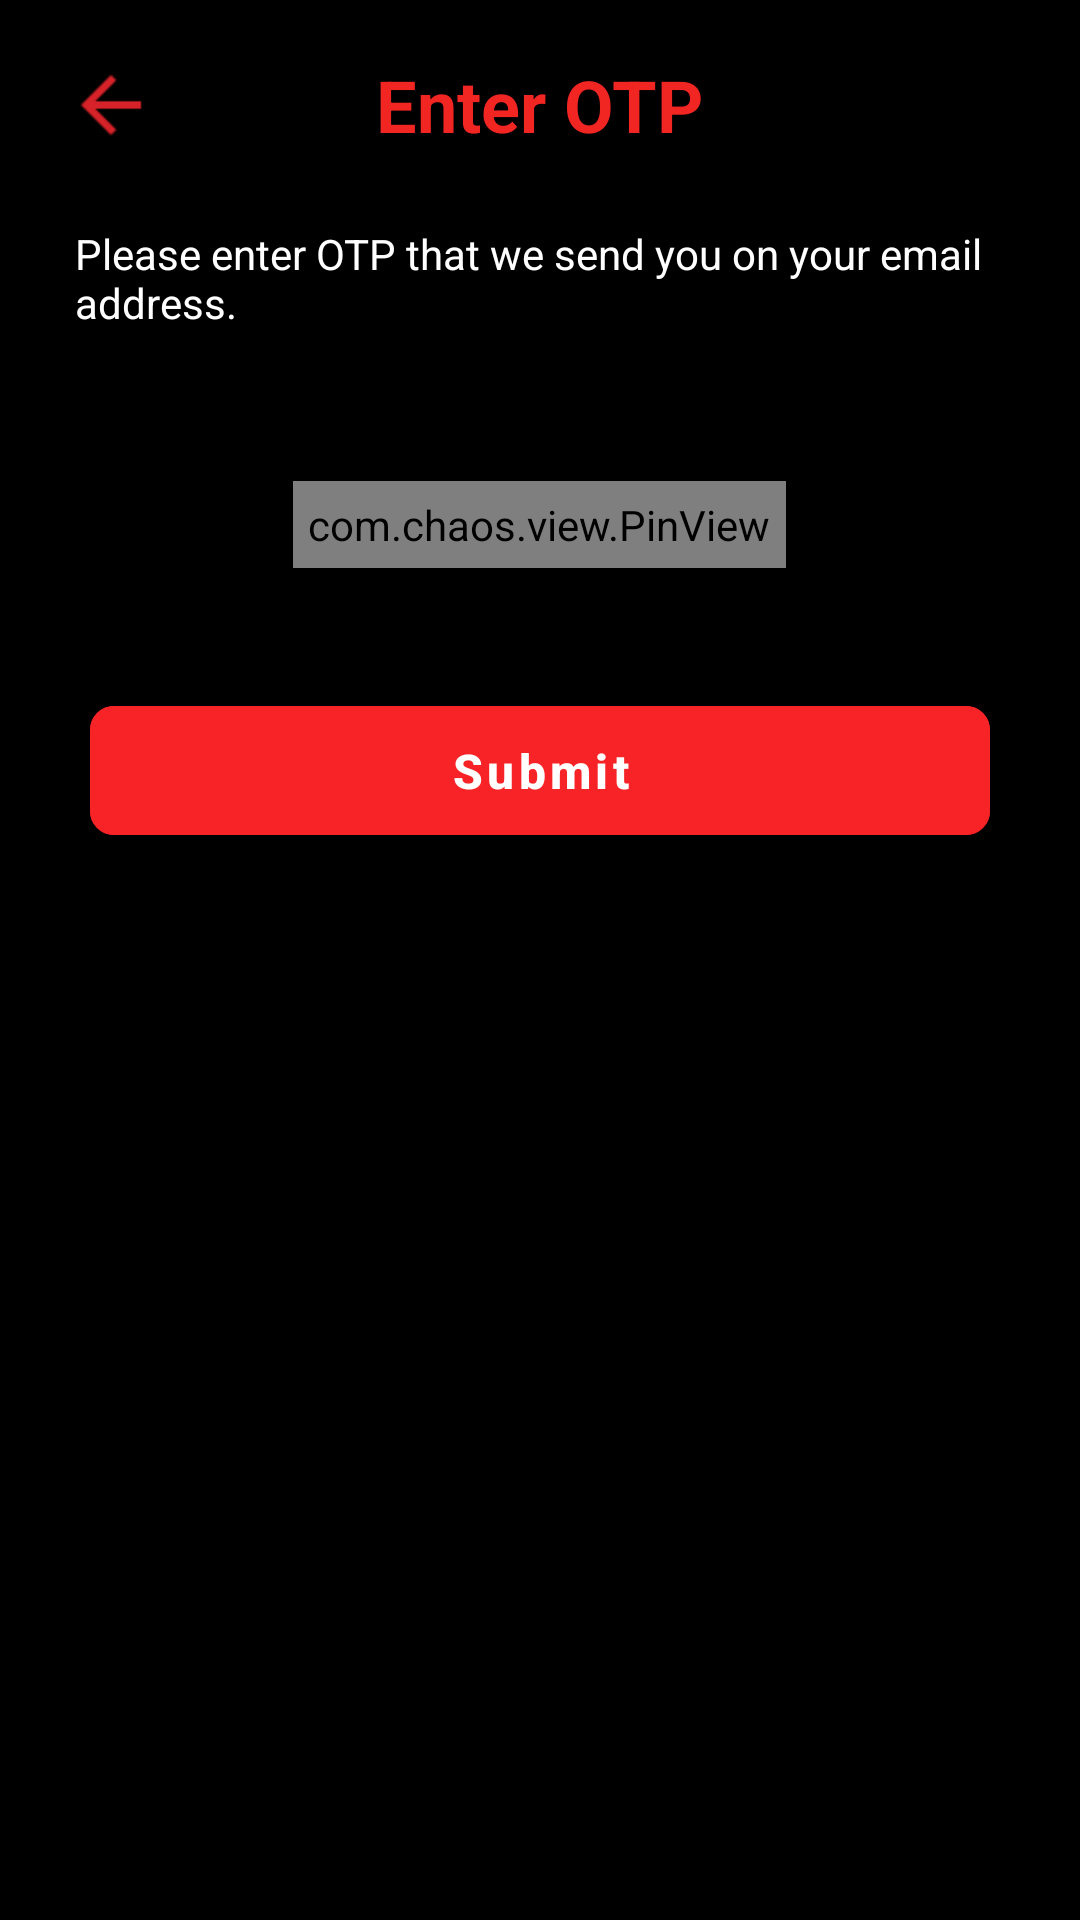

Locate icon controls on the screen. Image size 1080px×1920px, boxes as (x1, y1, x2, y2).
back: (80, 74, 142, 136)
